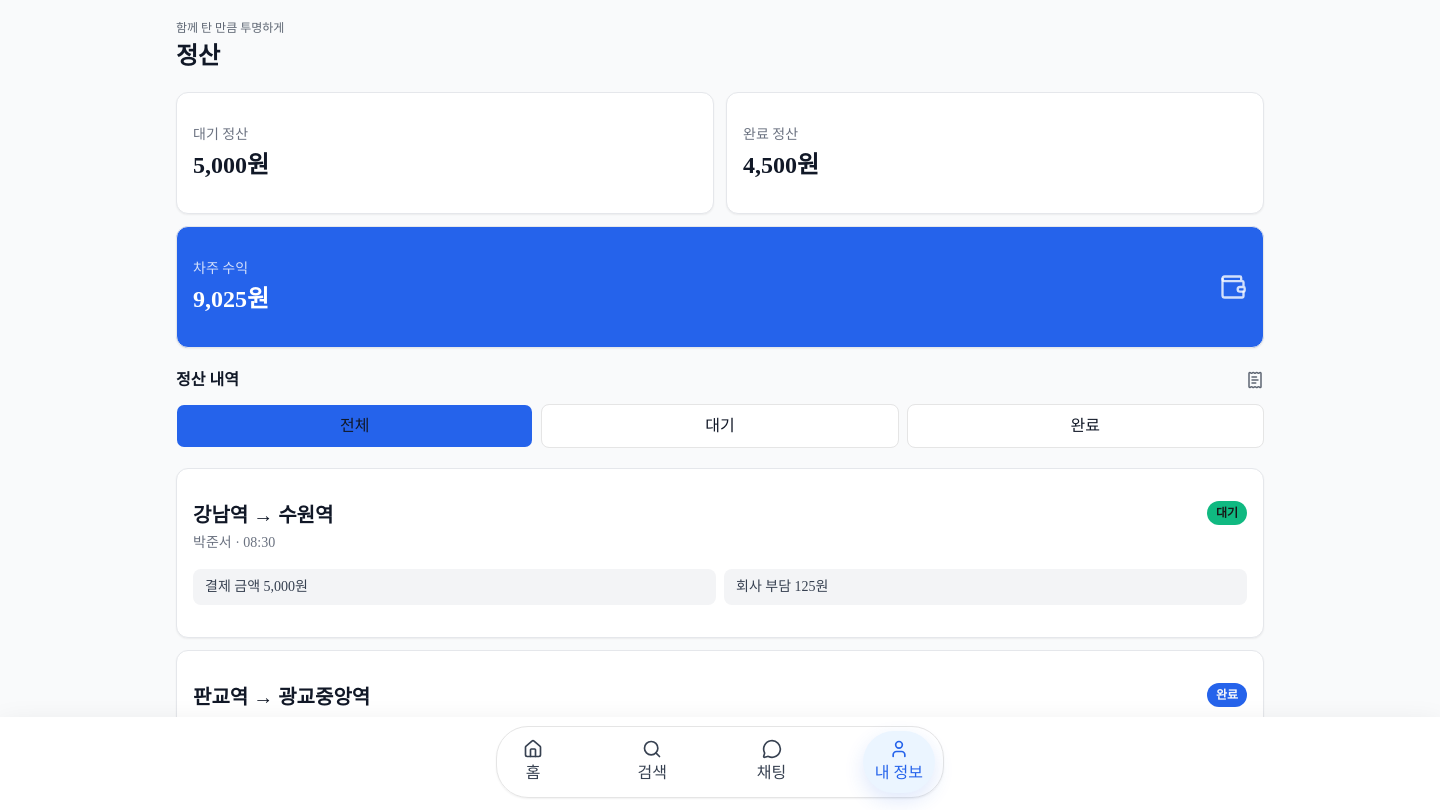
Test: 정산 화면 › 정산 상세를 열고 결제를 실행한다
Step 1. Click the button "강남역 → 수원역 박준서 · 08:30 대기 결제 금액 5,000원 회사 부담 125원" → (720,553), box [176,468,1264,638]
(page scrolled)
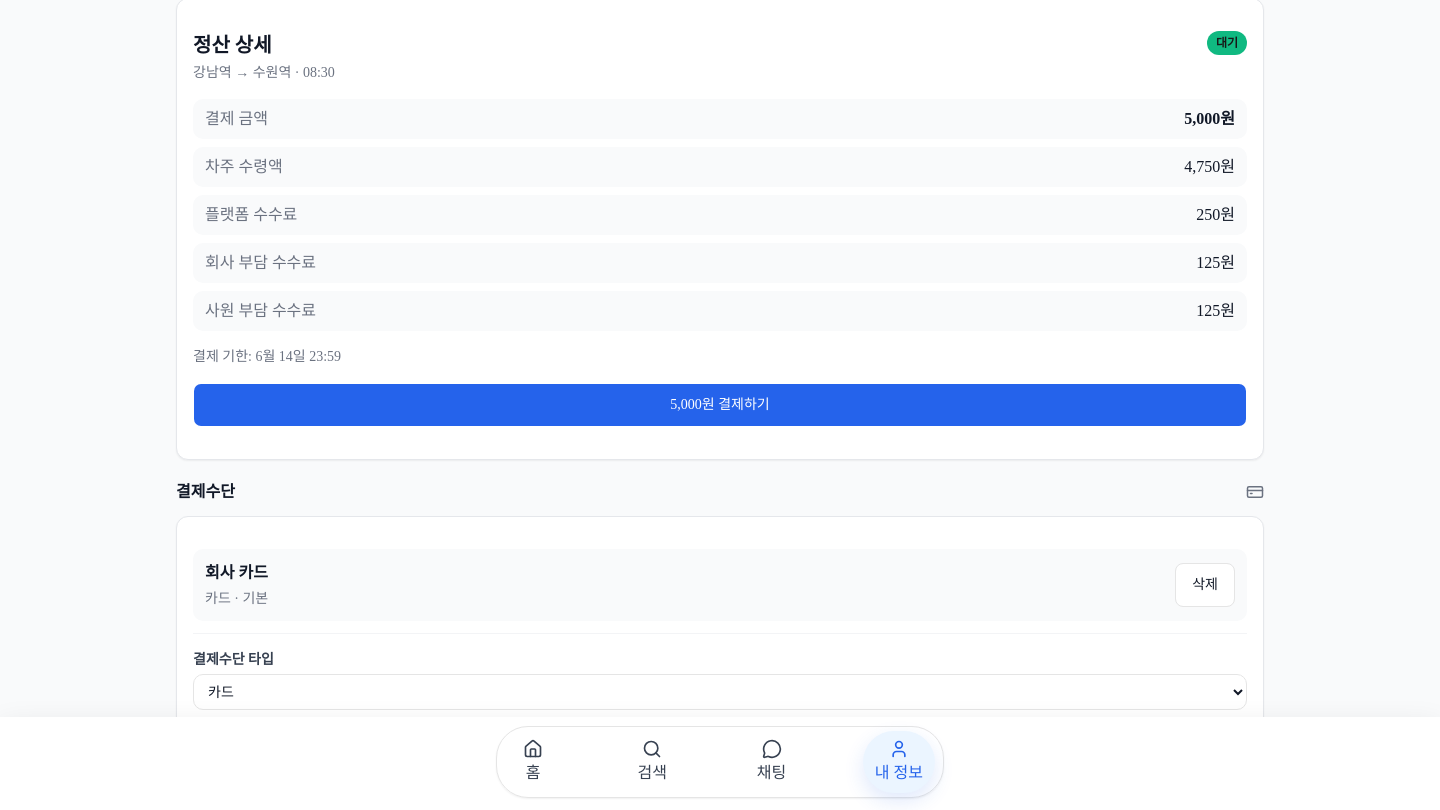
Result: the heading "정산 상세" is shown at [193,34,272,56]
Result: the text "플랫폼 수수료" is shown at [205,203,297,227]
Result: the text "사원 부담 수수료" is shown at [205,299,316,323]
Step 2. Click the button "5,000원 결제하기" → (720,405), box [193,383,1247,427]
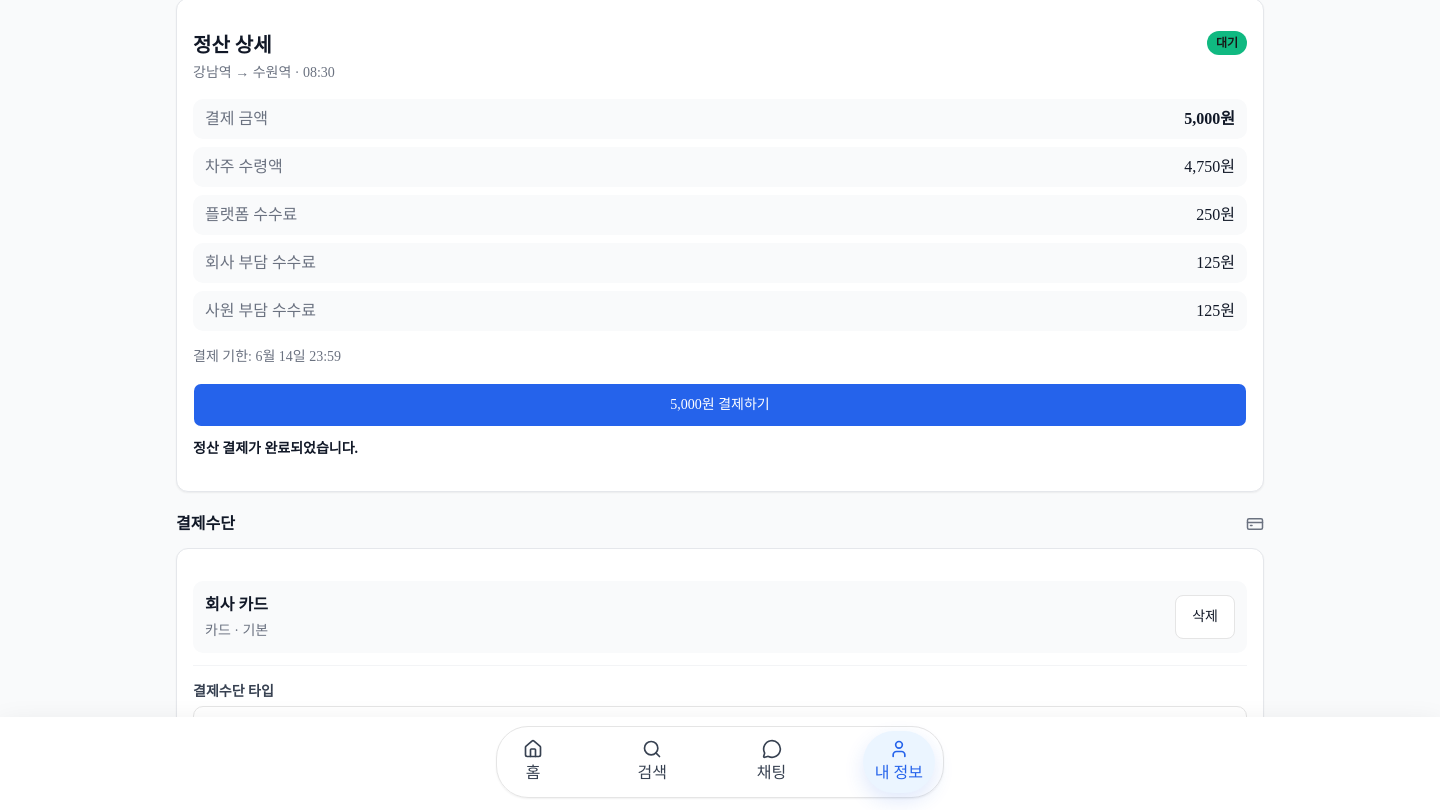
Result: the text "정산 결제가 완료되었습니다." is shown at [193,441,358,456]
